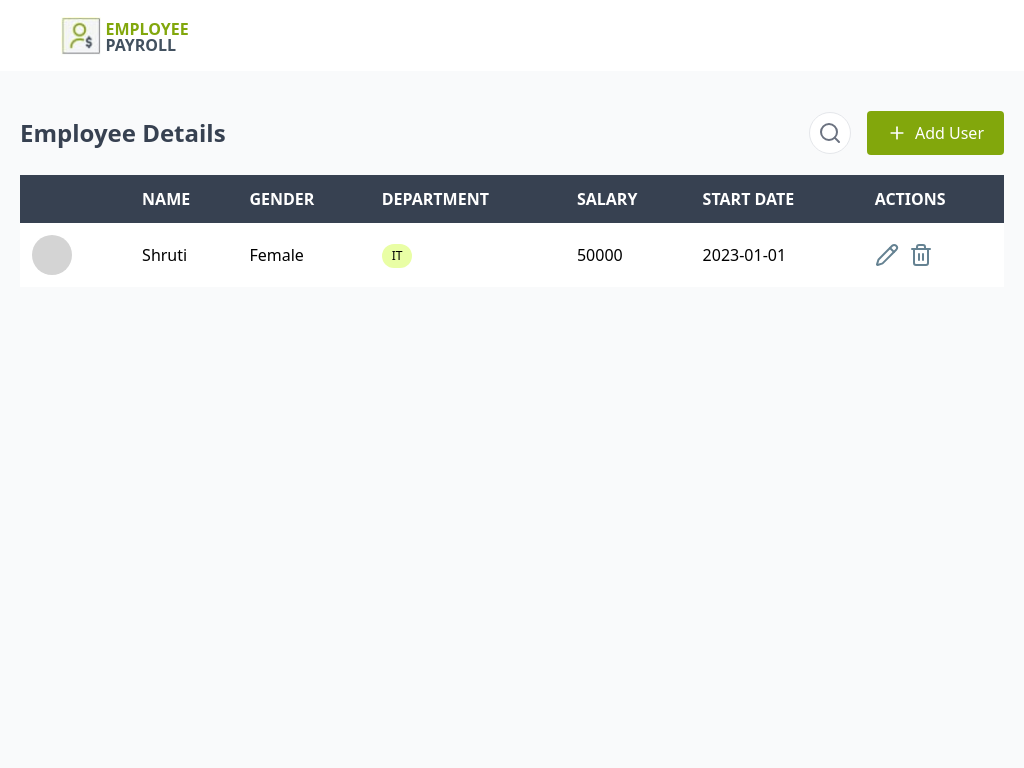
Test: Dashboard Component › handles delete button click with confirmation
The image size is (1024, 768).
Expected: the text "Shruti" is shown, [130,223,237,287]
What coordinates should you click on to do the following:
click the element named "Delete employee"
I would click on:
 (921, 255)
Its box is [909,243,933,267].
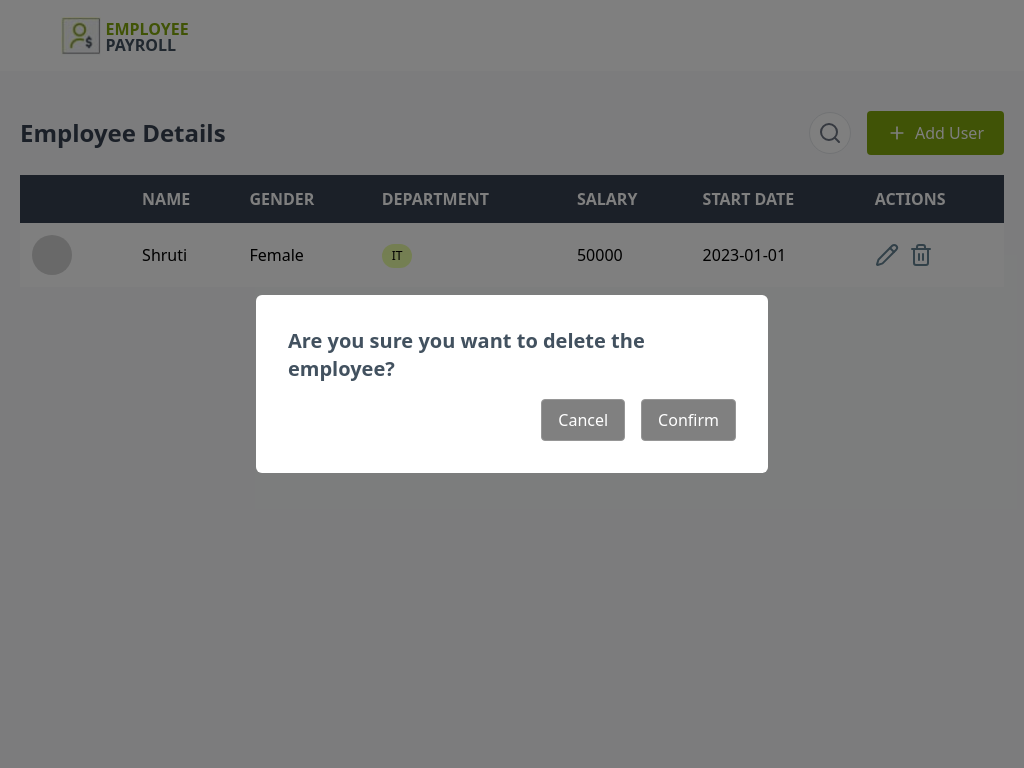
Expected: the heading "Are you sure you want to delete the employee?" is shown, [288,327,645,382]
What coordinates should you click on to do the following:
click the button "Confirm"
I would click on:
 (689, 420)
Its box is [641,399,736,441].
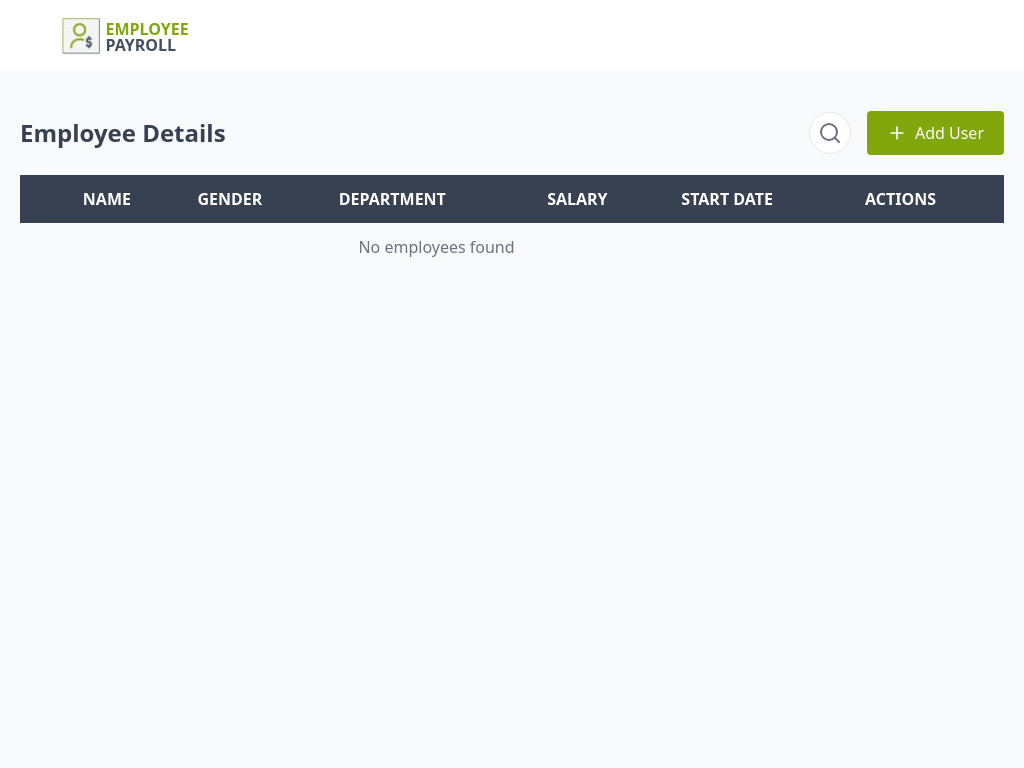
Expected: the text "Shruti" is gone
